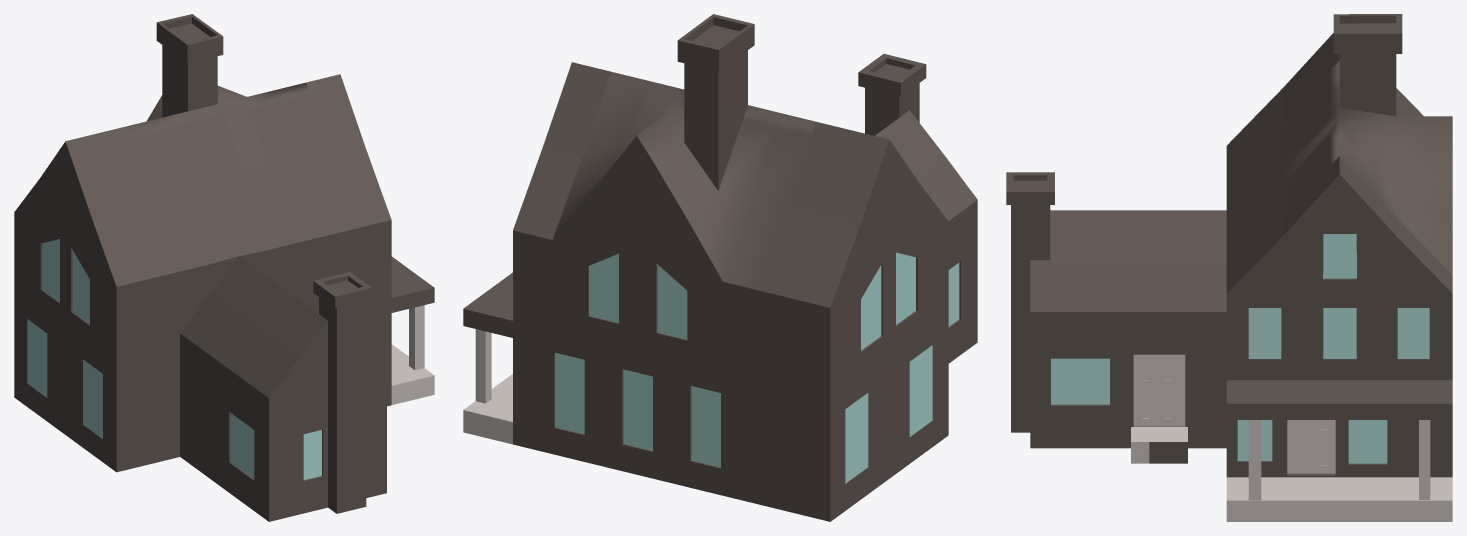
File: Farmhouse.fbx
3 renders of one model, left to right at view 1: azimuth 30°, elevation 25°; view 2: azimuth 150°, elevation 25°; view 3: azimuth 270°, elevation 25°, orthographic. The views are drawn at different scales.
Visible parts, largest first — view 1: pCube1; view 2: pCube1; view 3: pCube1.
Boxes of the visible parts, left/top/right/bottom form: pCube1: left=14, top=14, right=434, bottom=521; pCube1: left=463, top=14, right=977, bottom=521; pCube1: left=1006, top=14, right=1452, bottom=521.
Bounding box in the file's own units: 27.03 × 29.46 × 29.74.
